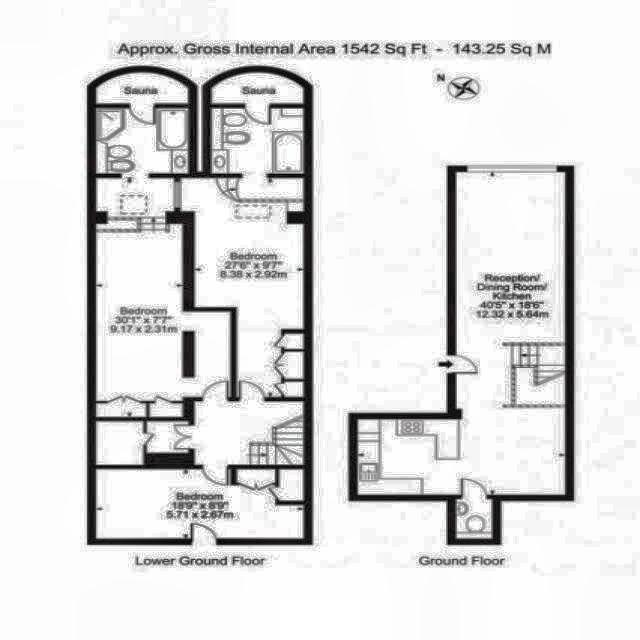room: (358, 172, 565, 495), (181, 178, 304, 398), (97, 223, 230, 400), (95, 470, 303, 538), (195, 401, 304, 465), (96, 108, 187, 173), (212, 108, 302, 173), (97, 72, 188, 104), (212, 72, 303, 104), (96, 179, 173, 211), (97, 422, 143, 464), (456, 500, 492, 538), (147, 422, 188, 453), (97, 403, 146, 417), (149, 403, 183, 417)
